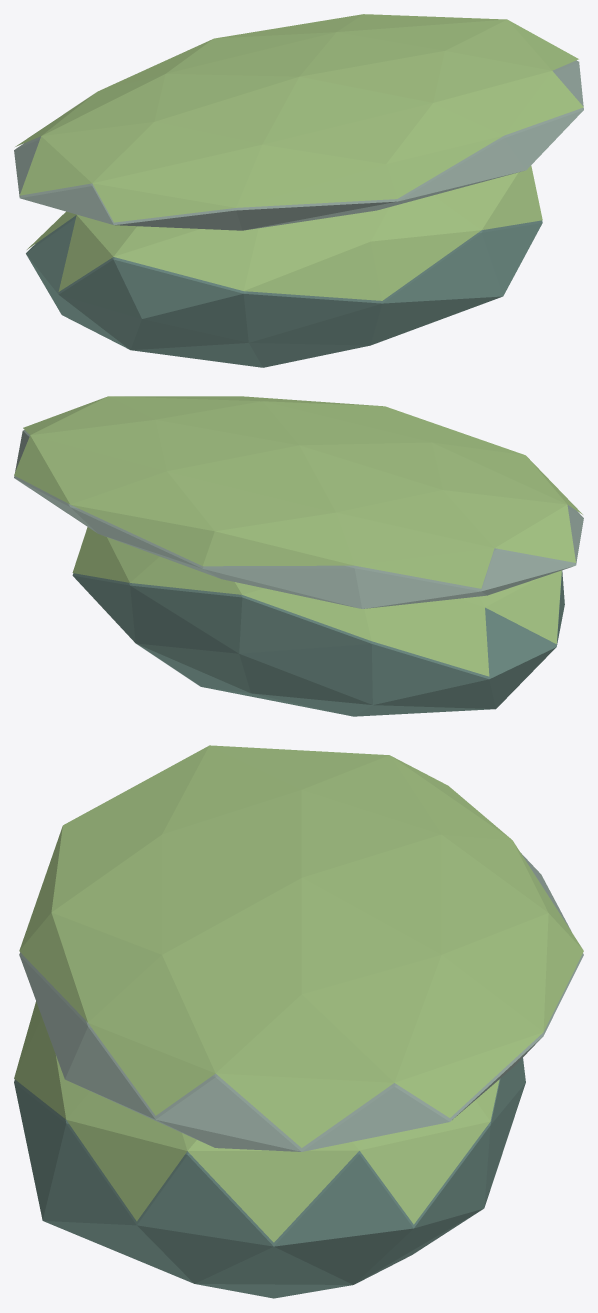
Rendered from rock-ledge-mossy.glb.
3 views of the same model, one above another, from view 1: azimuth 30°, elevation 25°; view 2: azimuth 150°, elevation 25°; view 3: azimuth 270°, elevation 25° (orthographic). The views are drawn at different scales.
Parts seen in each view (by area): view 1: rock-ledge-kit-mossy-top, rock-ledge-kit-mossy-shade, rock-ledge-kit-mossy-stone; view 2: rock-ledge-kit-mossy-top, rock-ledge-kit-mossy-shade, rock-ledge-kit-mossy-stone; view 3: rock-ledge-kit-mossy-top, rock-ledge-kit-mossy-shade, rock-ledge-kit-mossy-stone.
Part boxes in pixels (x1,y1,x2,y2): rock-ledge-kit-mossy-top: (15, 14, 583, 300); rock-ledge-kit-mossy-shade: (26, 215, 542, 367); rock-ledge-kit-mossy-stone: (14, 60, 583, 230); rock-ledge-kit-mossy-top: (14, 396, 582, 676); rock-ledge-kit-mossy-shade: (72, 570, 564, 716); rock-ledge-kit-mossy-stone: (14, 430, 583, 608); rock-ledge-kit-mossy-top: (14, 745, 583, 1242); rock-ledge-kit-mossy-shade: (14, 1058, 525, 1298); rock-ledge-kit-mossy-stone: (19, 852, 583, 1151).
Size of the model in its own units: 3.34 by 1.35 by 2.04.
